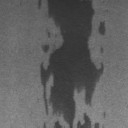red iron: (40, 0, 106, 128), (38, 0, 42, 10), (99, 46, 104, 53), (102, 112, 106, 118), (18, 2, 22, 7), (43, 122, 46, 128)
